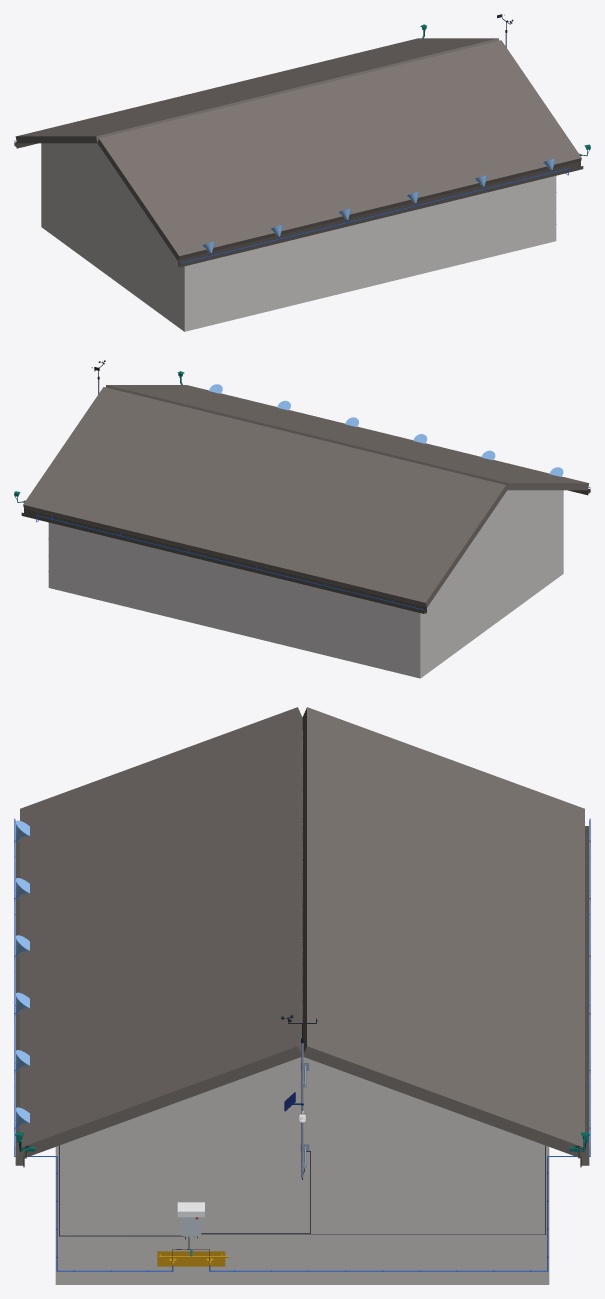
The picture shows the model from 3 angles, top to bottom: view 1: azimuth 30°, elevation 25°; view 2: azimuth 150°, elevation 25°; view 3: azimuth 270°, elevation 25°; orthographic projection. The views are drawn at different scales.
Parts seen in each view (by area): view 1: Roof (context), House walls (context), Fascia and gutters (existing), Spray envelope, front zone (indicative), Eave spray lines and heads (2 zones); view 2: Roof (context), House walls (context), Fascia and gutters (existing), Spray envelope, front zone (indicative), Eave spray lines and heads (2 zones); view 3: Roof (context), House walls (context), Fascia and gutters (existing), Eave spray lines and heads (2 zones), Spray envelope, front zone (indicative), Mast, pod and valve cables, Zone valves A and B on the valve board.
Boxes of the visible parts, x1,y1,x2,y2 form: Roof (context): (15,38,581,260); House walls (context): (41,143,556,331); Fascia and gutters (existing): (14,142,583,267); Spray envelope, front zone (indicative): (202,158,555,253); Eave spray lines and heads (2 zones): (14,140,568,263); Roof (context): (23,385,589,607); House walls (context): (48,490,563,678); Fascia and gutters (existing): (21,489,590,613); Spray envelope, front zone (indicative): (209,384,563,476); Eave spray lines and heads (2 zones): (36,487,590,610); Roof (context): (20,707,584,1157); House walls (context): (55,730,549,1284); Fascia and gutters (existing): (15,821,589,1167); Eave spray lines and heads (2 zones): (14,818,590,1271); Spray envelope, front zone (indicative): (15,820,29,1128); Mast, pod and valve cables: (18,1109,586,1261); Zone valves A and B on the valve board: (157,1251,230,1266).
Size of the model in its own units: 13.38 by 5.14 by 9.35.
